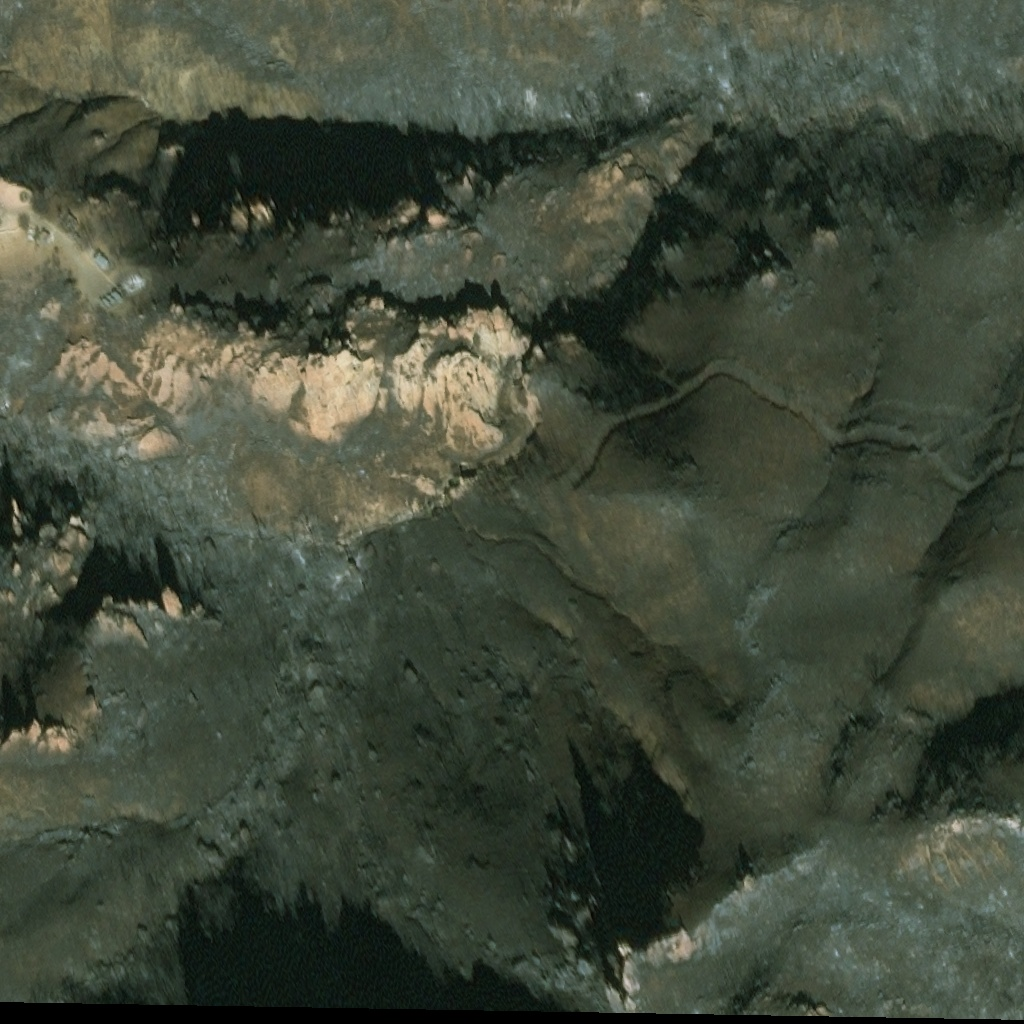0 no-damage: (100, 283, 130, 311), (95, 255, 113, 275), (67, 218, 81, 233)
3 destroyed: (124, 267, 145, 288)
